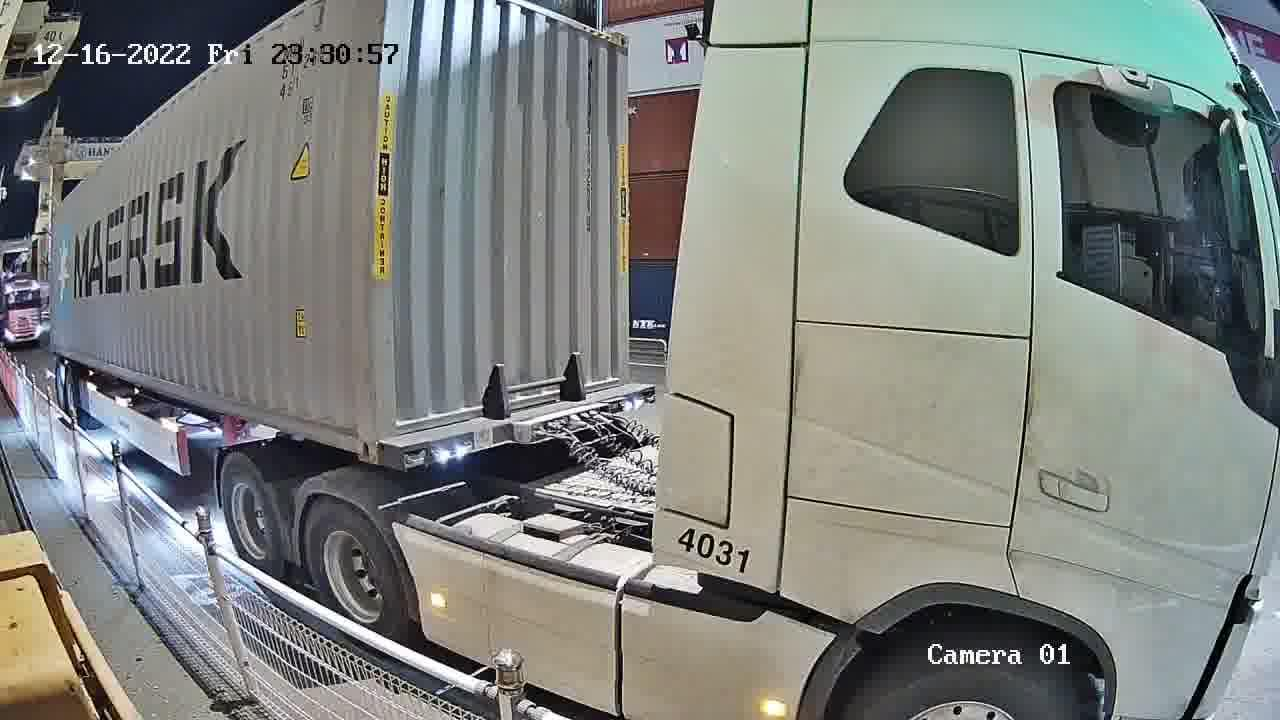Chassis: (381, 383, 656, 473)
Hole_R: (334, 406, 379, 461)
Tire: (304, 500, 407, 639), (218, 452, 288, 578)
